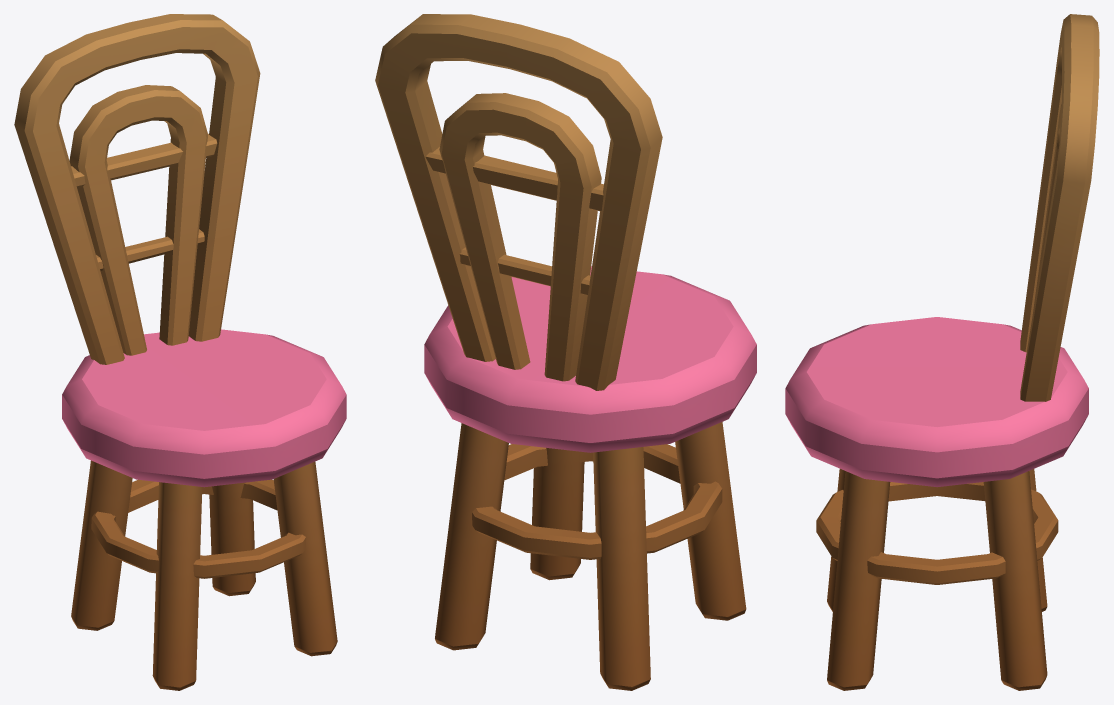
The model's file is Chair_3_E.glb.
3 views of the same model, side by side, from view 1: azimuth 30°, elevation 25°; view 2: azimuth 150°, elevation 25°; view 3: azimuth 270°, elevation 25° (orthographic). The views are drawn at different scales.
Parts seen in each view (by area): view 1: Chair_3_E; view 2: Chair_3_E; view 3: Chair_3_E.
Part boxes in pixels (x1,y1,x2,y2): Chair_3_E: (14,14,346,690); Chair_3_E: (375,14,756,690); Chair_3_E: (785,14,1099,690).
Size of the model in its own units: 0.5328 by 1.16 by 0.5514.
1 material, 1 textured.
